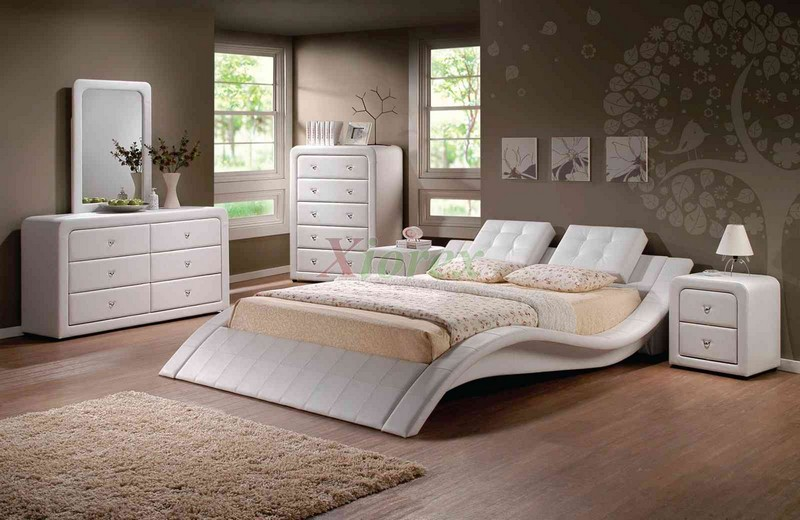bed: (203, 220, 685, 439)
lamp: (712, 215, 758, 276)
stool: (663, 268, 783, 386), (367, 233, 452, 289)
